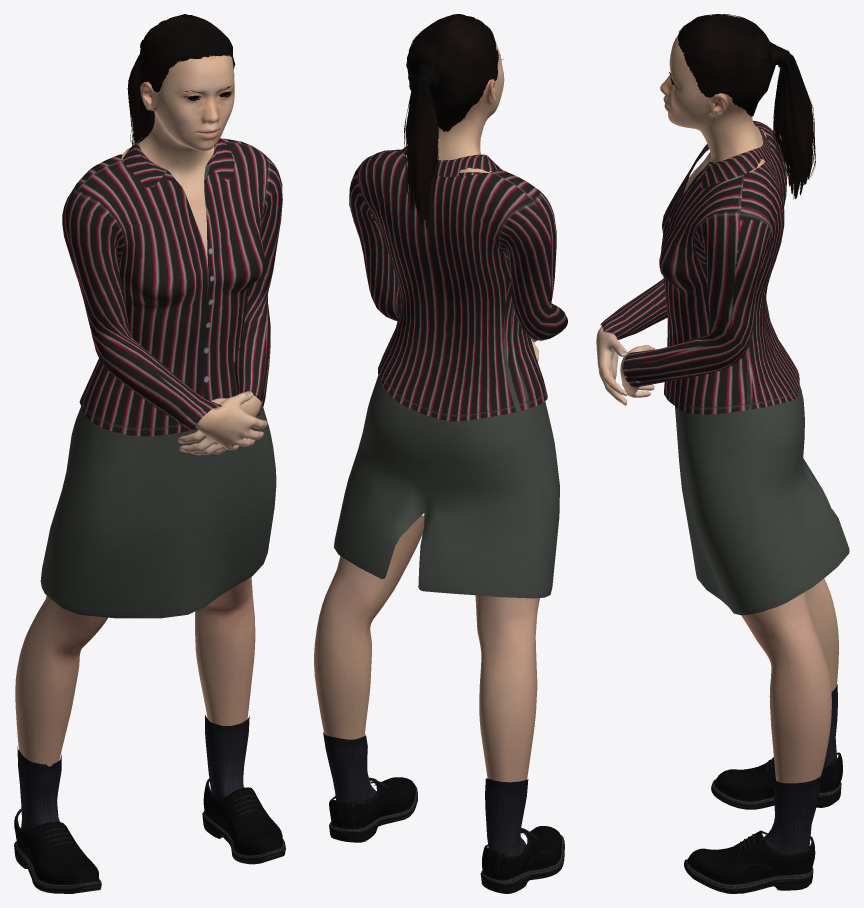
Rendered from reception.glb.
3 renders of one model, left to right at view 1: azimuth 30°, elevation 25°; view 2: azimuth 150°, elevation 25°; view 3: azimuth 270°, elevation 25°, orthographic. The views are drawn at different scales.
Parts seen in each view (by area): view 1: receptionist_body.female_elegantsuit01, receptionist_body, receptionist_body.shoes03, receptionist_body.ponytail01; view 2: receptionist_body.female_elegantsuit01, receptionist_body, receptionist_body.shoes03, receptionist_body.ponytail01; view 3: receptionist_body.female_elegantsuit01, receptionist_body, receptionist_body.shoes03, receptionist_body.ponytail01.
Part boxes in pixels (<box>): receptionist_body.female_elegantsuit01: <box>40,138,282,618</box>; receptionist_body: <box>15,55,267,766</box>; receptionist_body.shoes03: <box>14,715,285,893</box>; receptionist_body.ponytail01: <box>127,14,235,145</box>; receptionist_body.female_elegantsuit01: <box>333,146,567,598</box>; receptionist_body: <box>314,41,539,782</box>; receptionist_body.shoes03: <box>323,732,564,893</box>; receptionist_body.ponytail01: <box>404,14,498,228</box>; receptionist_body.female_elegantsuit01: <box>600,120,849,615</box>; receptionist_body: <box>596,35,838,783</box>; receptionist_body.shoes03: <box>684,684,842,893</box>; receptionist_body.ponytail01: <box>678,14,815,199</box>.
Size of the model in its own units: 0.4797 by 1.67 by 0.4604.
Materials: 8 (8 with a texture image).
